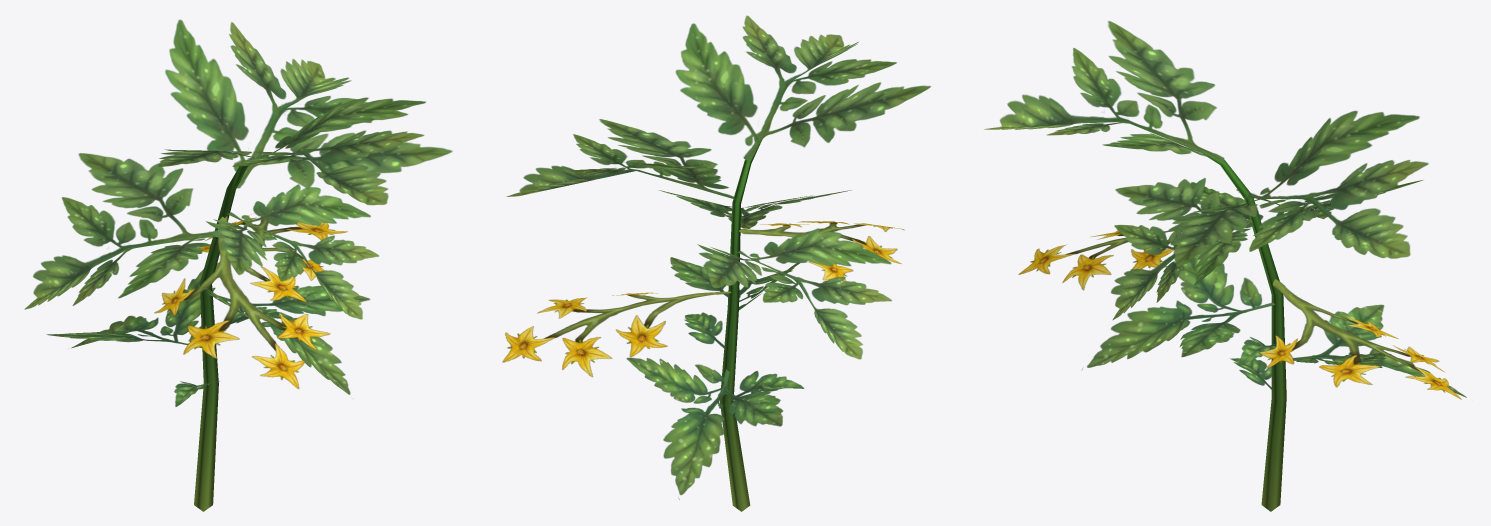
The model's file is plant_tomato_S2.gltf.
3 renders of one model, left to right at view 1: azimuth 30°, elevation 25°; view 2: azimuth 150°, elevation 25°; view 3: azimuth 270°, elevation 25°, orthographic. The views are drawn at different scales.
Visible parts, largest first — view 1: plant_tomato_S2; view 2: plant_tomato_S2; view 3: plant_tomato_S2.
Boxes of the visible parts, x1,y1,x2,y2 form: plant_tomato_S2: (24,19,452,511); plant_tomato_S2: (502,15,930,511); plant_tomato_S2: (984,21,1466,511).
Size of the model in its own units: 0.5077 by 0.5728 by 0.6106.
1 material, 1 textured.
